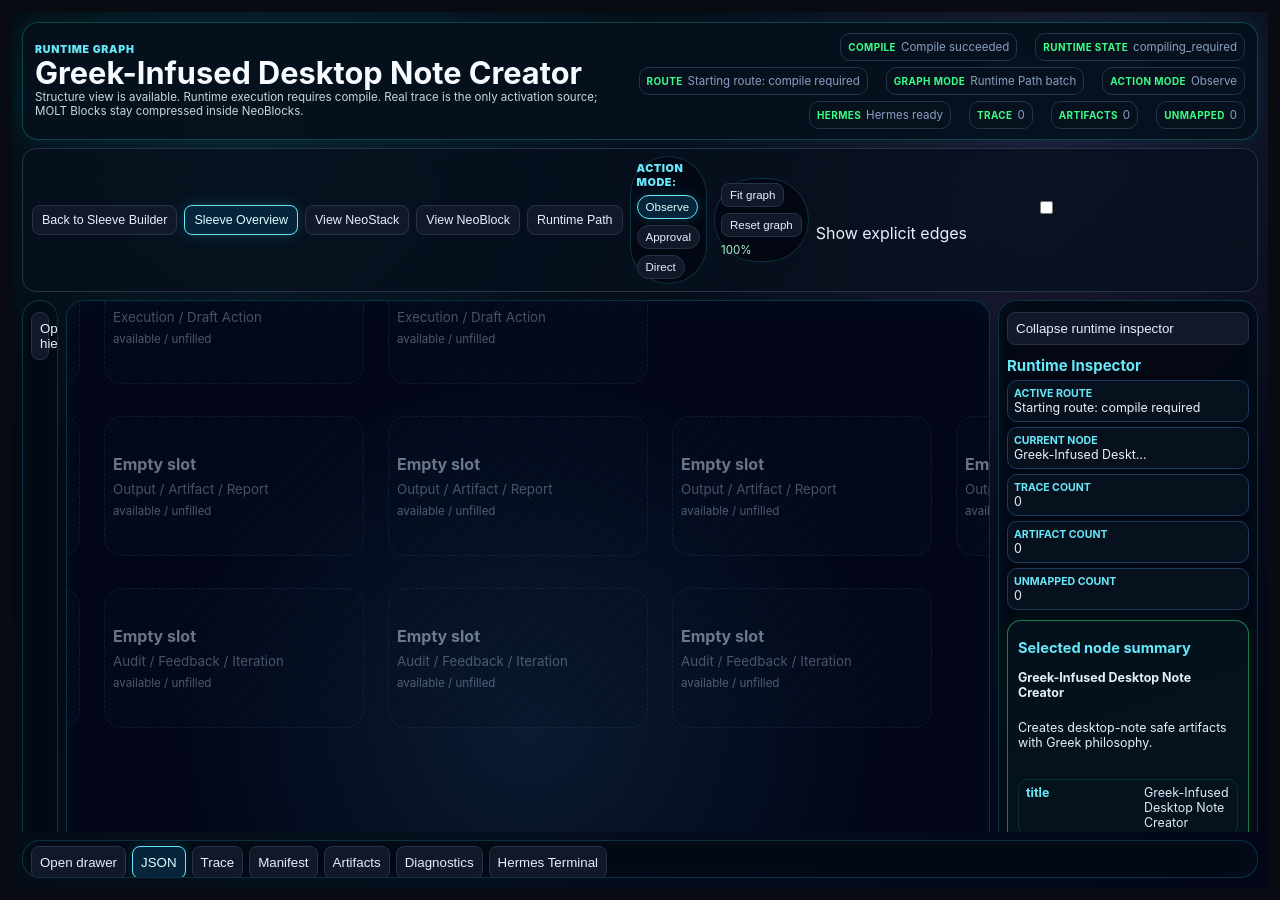
it: RuntimeGeometryObserver › left Sleeve hierarchy is collapsed by default and resources remain in diagnostics drawer
This screenshot has width=1280, height=900.
Expected: the button "Open hierarchy" is shown, x1=31 y1=312 x2=49 y2=360
Click the button "Diagnostics" at coordinates (439, 862), box x1=396 y1=846 x2=483 y2=879
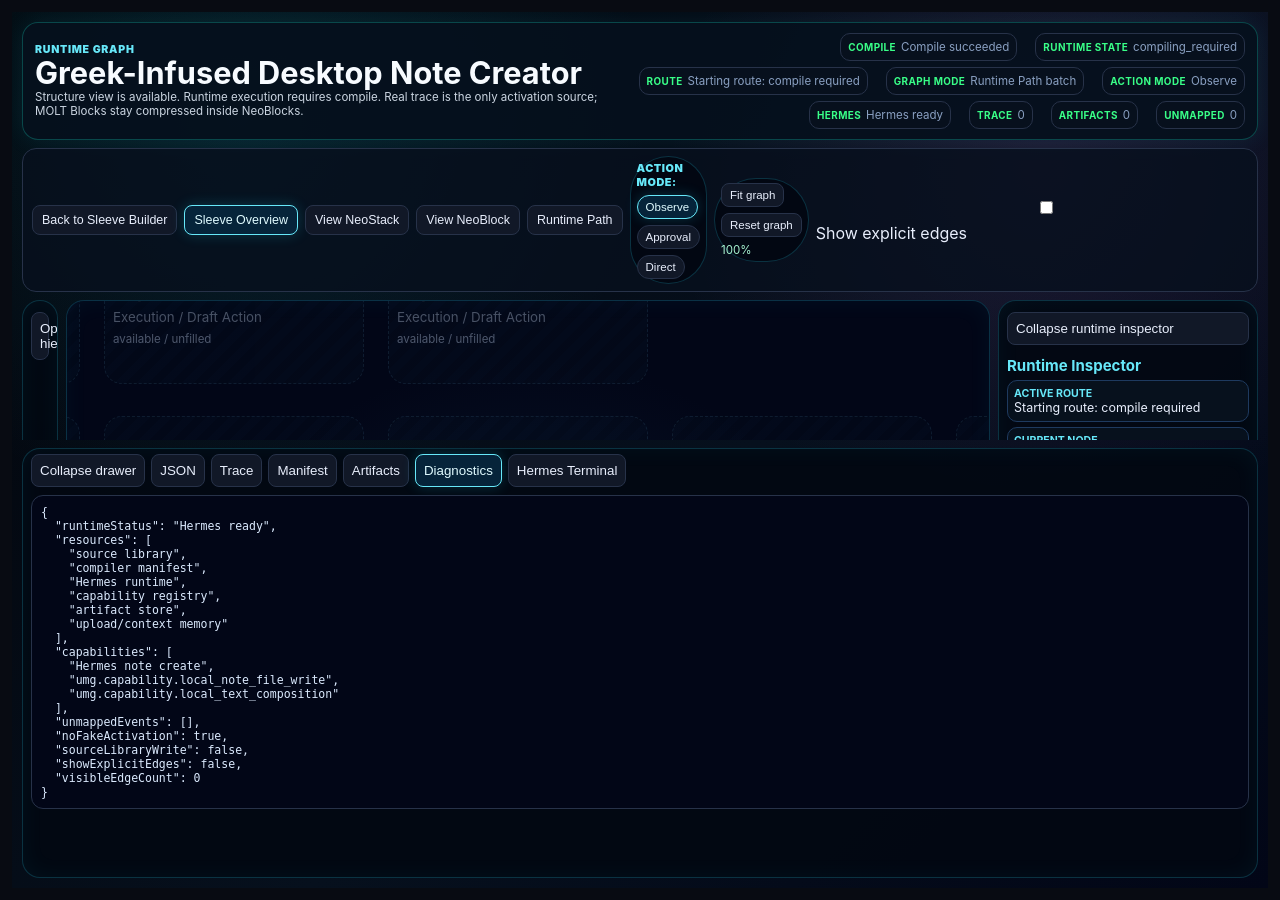
Now the text "Hermes runtime" is shown, box x1=41 y1=505 x2=339 y2=799
